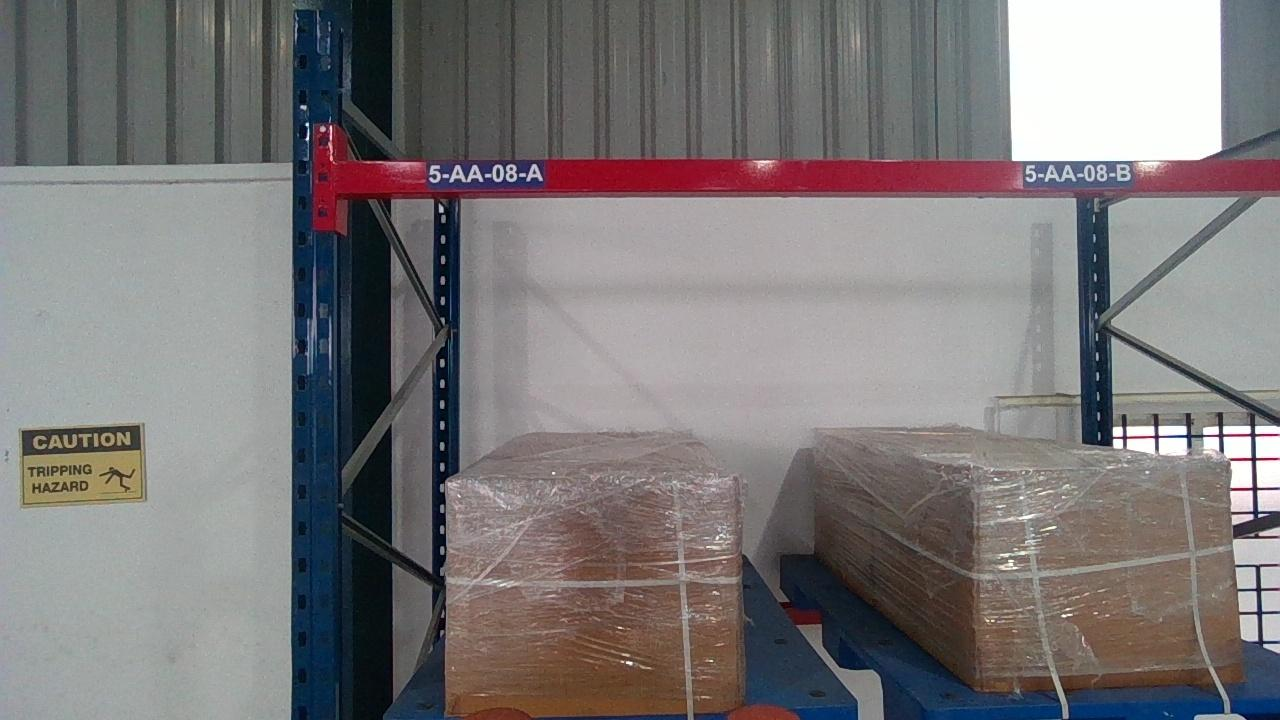h_rack: (335, 158, 1274, 195)
small_pallet: (931, 702, 1277, 719)
